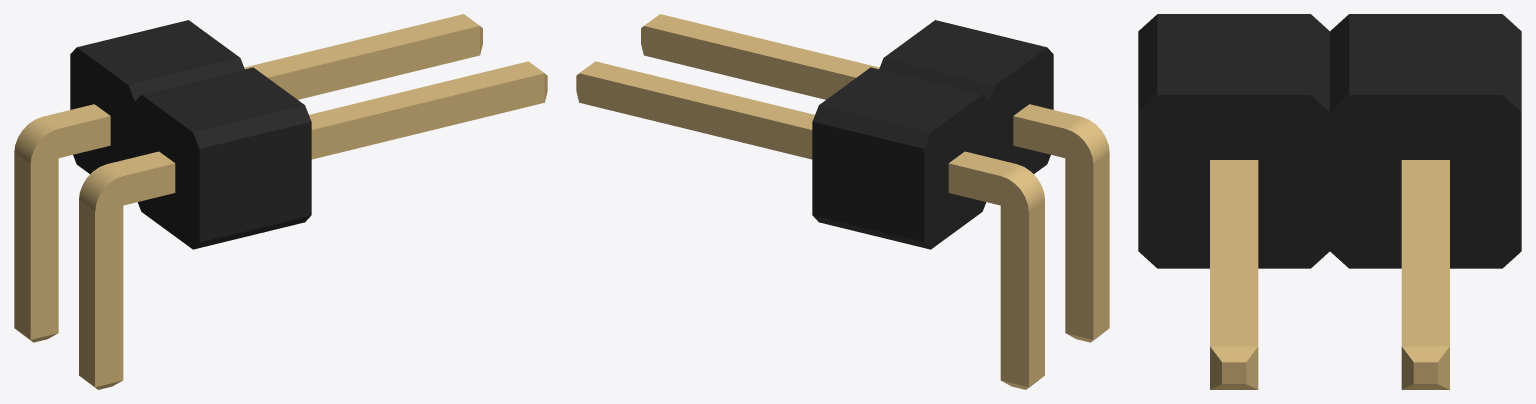
The model's file is Connector_PinHeader_2.54mm__PinHeader_1x02_P2.54mm_Horizontal.glb.
The picture shows the model from 3 angles, left to right: view 1: azimuth 30°, elevation 25°; view 2: azimuth 150°, elevation 25°; view 3: azimuth 270°, elevation 25°; orthographic projection. The views are drawn at different scales.
Parts seen in each view (by area): view 1: PinHeader_1x02_P254mm_Horizontal; view 2: PinHeader_1x02_P254mm_Horizontal; view 3: PinHeader_1x02_P254mm_Horizontal.
Part boxes in pixels (x1,y1,x2,y2): PinHeader_1x02_P254mm_Horizontal: [14, 14, 547, 389]; PinHeader_1x02_P254mm_Horizontal: [576, 14, 1109, 389]; PinHeader_1x02_P254mm_Horizontal: [1138, 14, 1521, 389].
Size of the model in its own units: 0.0104 by 0.00554 by 0.00508.
